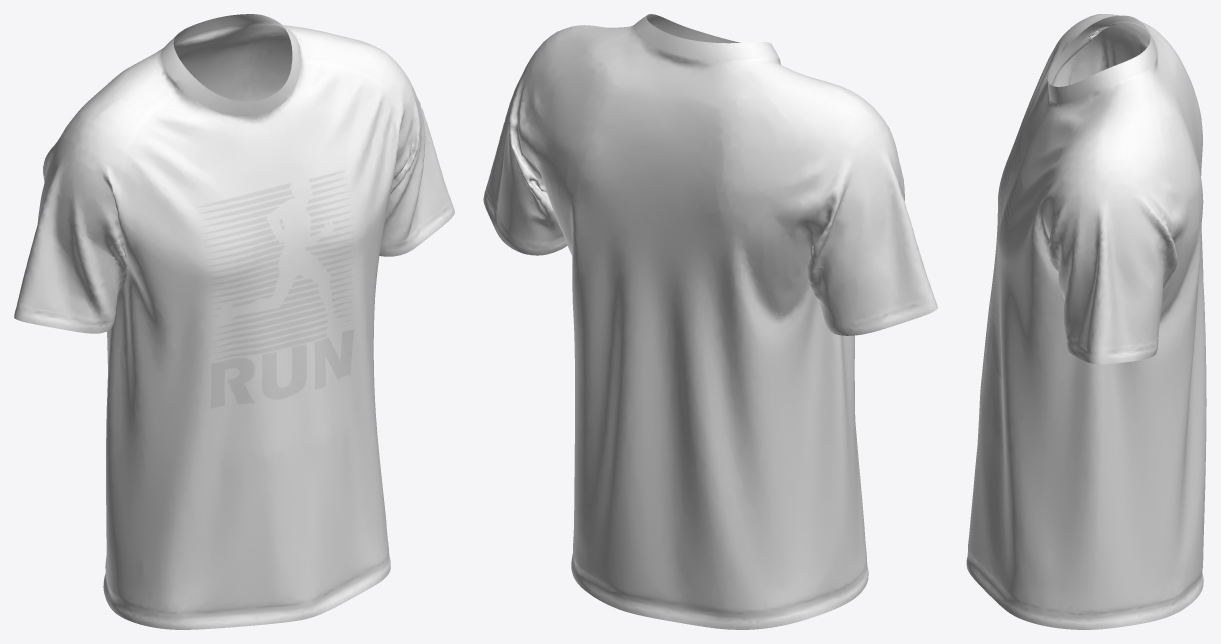
Rendered from shirt-white.glb.
3 renders of one model, left to right at view 1: azimuth 30°, elevation 25°; view 2: azimuth 150°, elevation 25°; view 3: azimuth 270°, elevation 25°, orthographic. The views are drawn at different scales.
Parts seen in each view (by area): view 1: RAGLAN%20TEE%2001_(OPTIMIZED).obj_0; view 2: RAGLAN%20TEE%2001_(OPTIMIZED).obj_0; view 3: RAGLAN%20TEE%2001_(OPTIMIZED).obj_0.
Boxes of the visible parts, x1,y1,x2,y2 form: RAGLAN%20TEE%2001_(OPTIMIZED).obj_0: (14,14,454,629); RAGLAN%20TEE%2001_(OPTIMIZED).obj_0: (483,14,937,629); RAGLAN%20TEE%2001_(OPTIMIZED).obj_0: (966,14,1206,629).
Size of the model in its own units: 23.66 by 28.07 by 11.39.
Materials: 1 (1 with a texture image).
